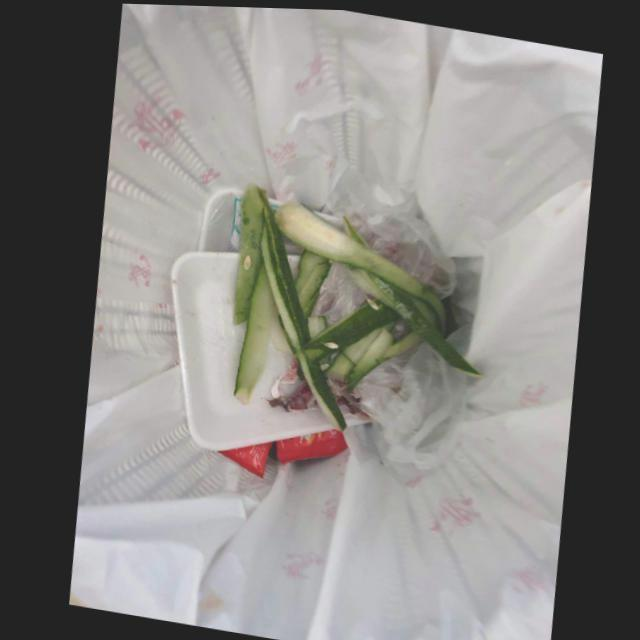plastic_sachet: (272, 427, 343, 462), (213, 440, 269, 477)
